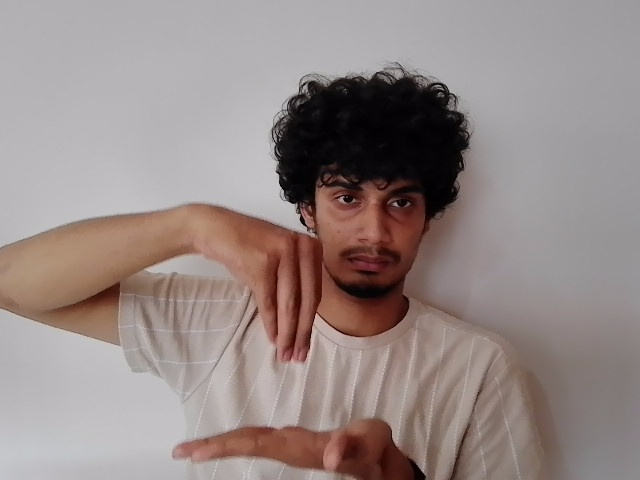learn: (187, 200, 394, 474)
